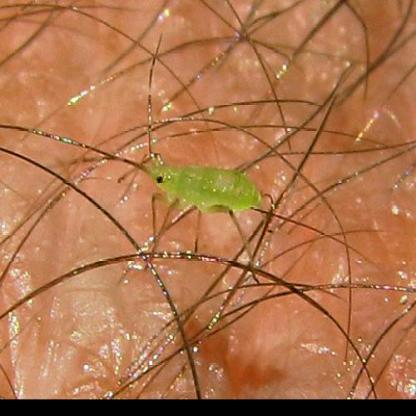aphid: (79, 77, 294, 264)
